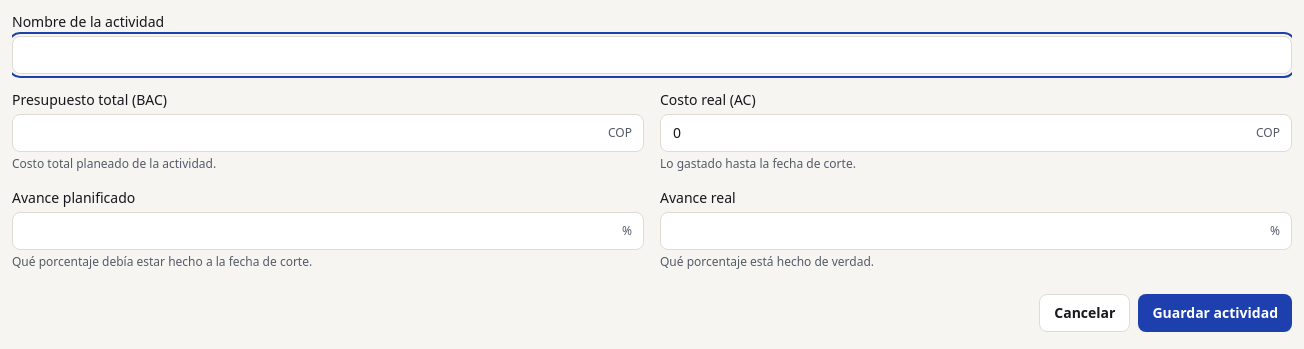
ActivityForm › no envía avances fuera de 0–100 ni presupuesto en cero
Type "X" into the field labelled "Nombre de la actividad" at (652, 55), box left=12, top=36, right=1292, bottom=74
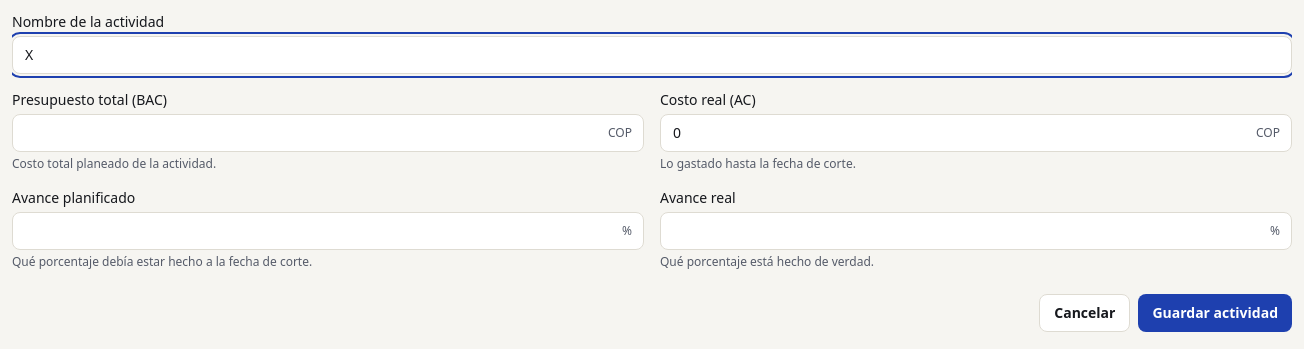
Type "0" into the field labelled "Presupuesto total (BAC)" at (328, 133), box left=12, top=114, right=644, bottom=152
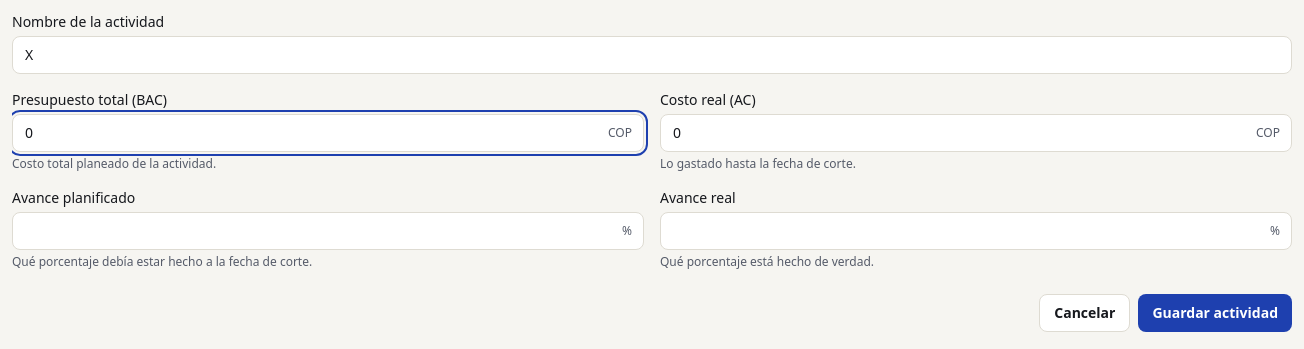
Type "120" into the field labelled "Avance planificado" at (328, 231), box left=12, top=212, right=644, bottom=250
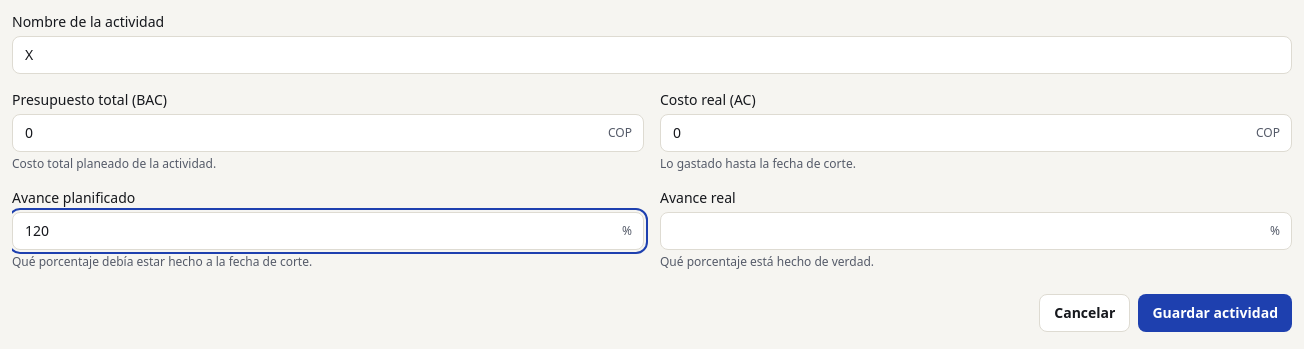
Type "1,5" into the field labelled "Avance real" at (976, 231), box left=660, top=212, right=1292, bottom=250
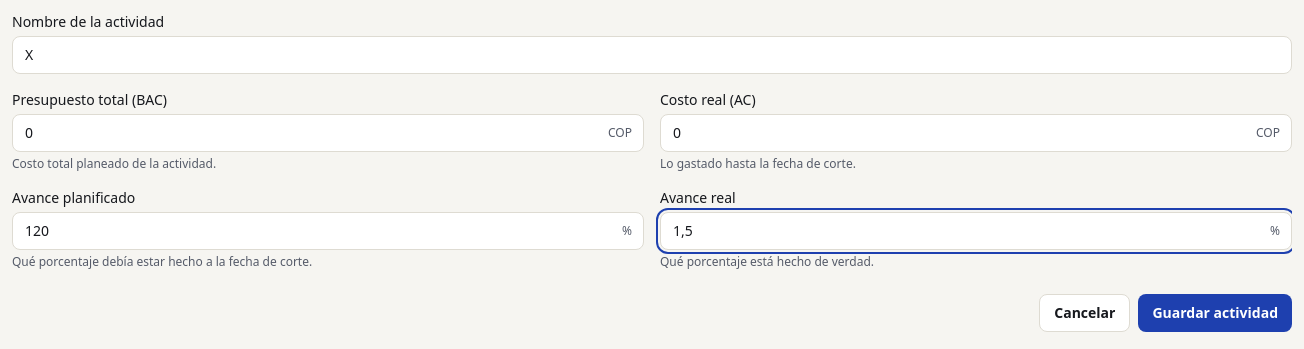
Click the button "Guardar actividad" at (1215, 313), box left=1138, top=294, right=1292, bottom=332
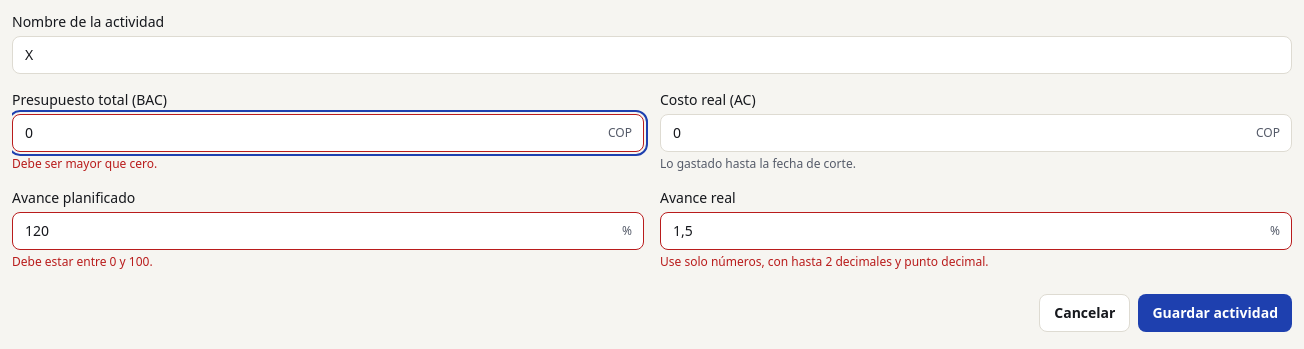
Result: the text "Debe ser mayor que cero." is shown at left=12, top=155, right=157, bottom=172
Result: the text "Debe estar entre 0 y 100." is shown at left=12, top=253, right=153, bottom=270
Result: the text "Use solo números, con hasta 2 decimales y punto decimal." is shown at left=660, top=253, right=988, bottom=270
